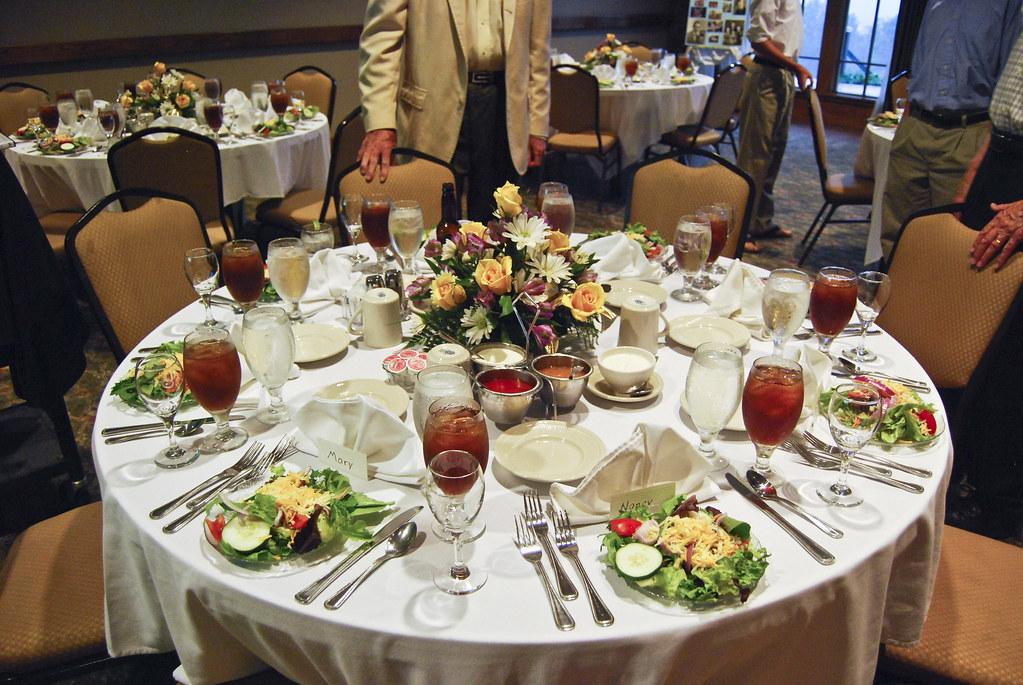table: (91, 226, 955, 683), (1, 74, 346, 253), (525, 26, 720, 176)
